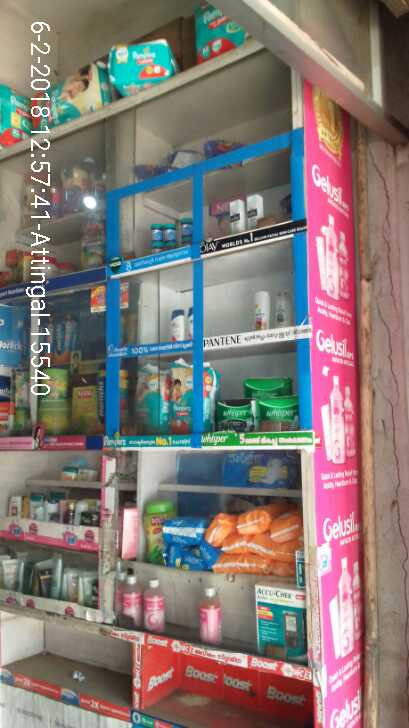vicks: (133, 213, 205, 271)
